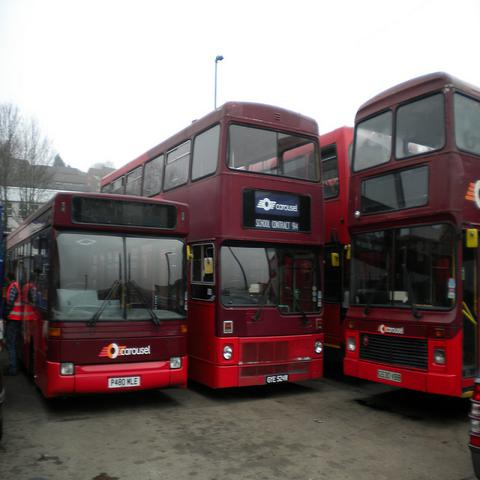bus: (100, 103, 324, 390), (345, 73, 479, 398), (1, 190, 189, 410), (316, 128, 356, 378), (471, 381, 479, 474)
